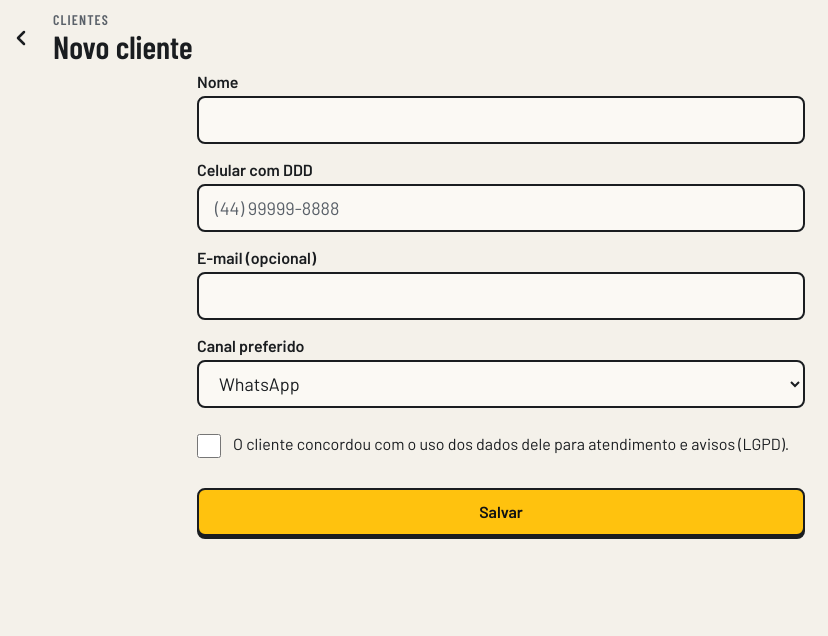
Test: Cliente (formulário) › cadastra no balcão e abre o cliente criado
Step 1. Type "Renata Souza" into the field labelled "Nome" → (501, 120), box [197, 96, 805, 144]
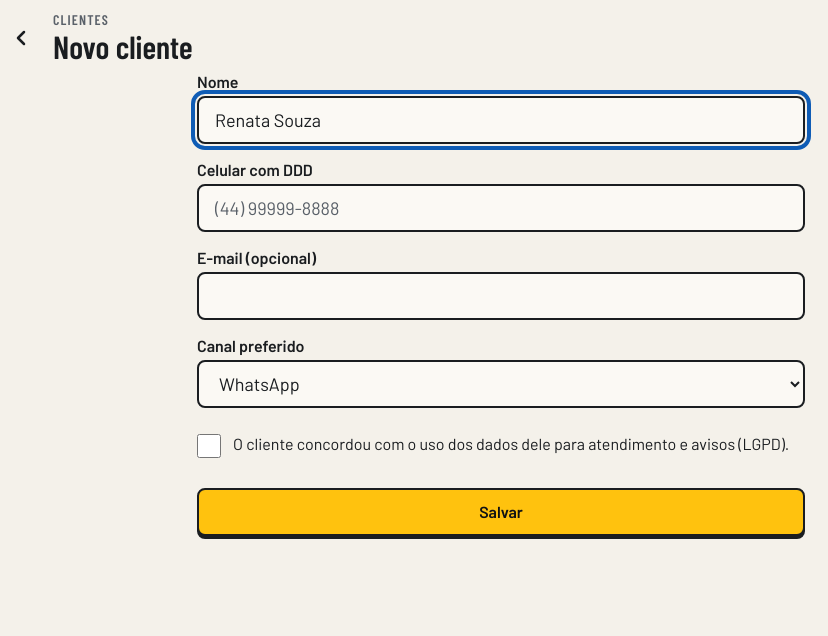
Step 2. Type "44999998888" into the field labelled "Celular com DDD" → (501, 208), box [197, 184, 805, 232]
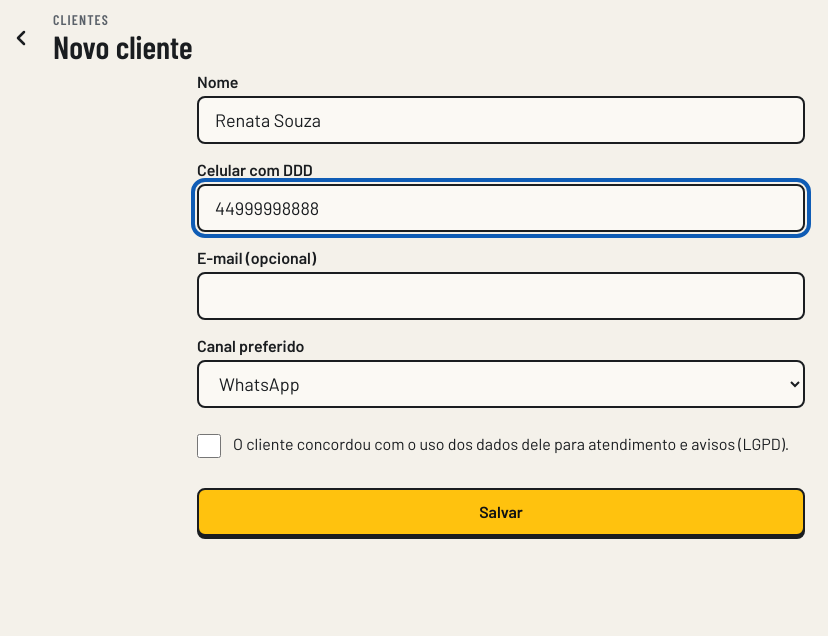
Step 3. Click the checkbox labelled "concordou" → (209, 446), box [197, 434, 221, 458]
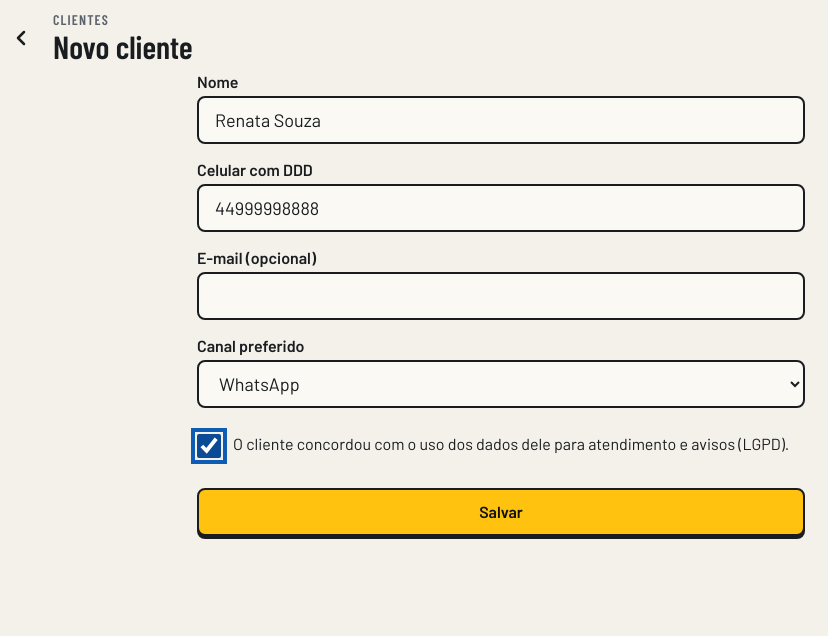
Step 4. Click the button "Salvar" → (501, 512), box [197, 488, 805, 536]
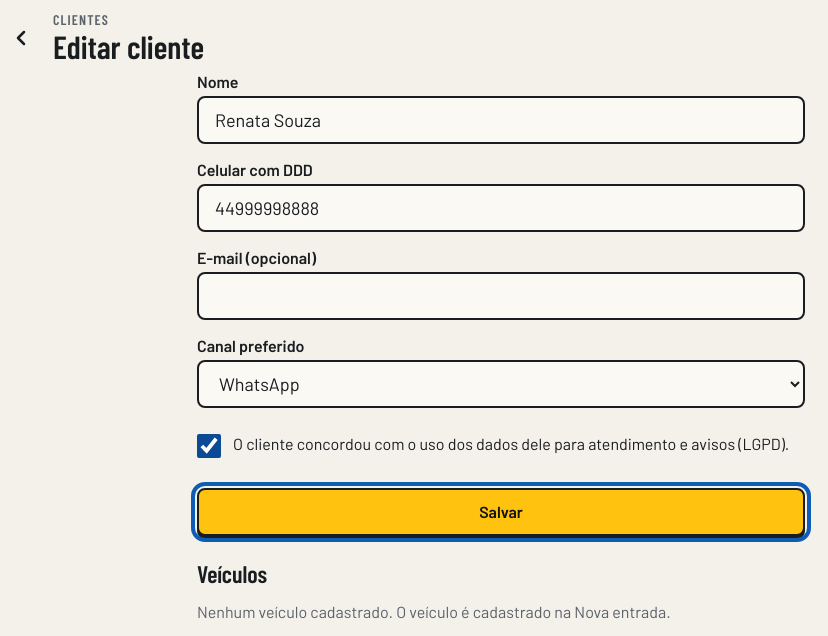
Check: the heading "Editar cliente" is shown, box [53, 27, 204, 65]
